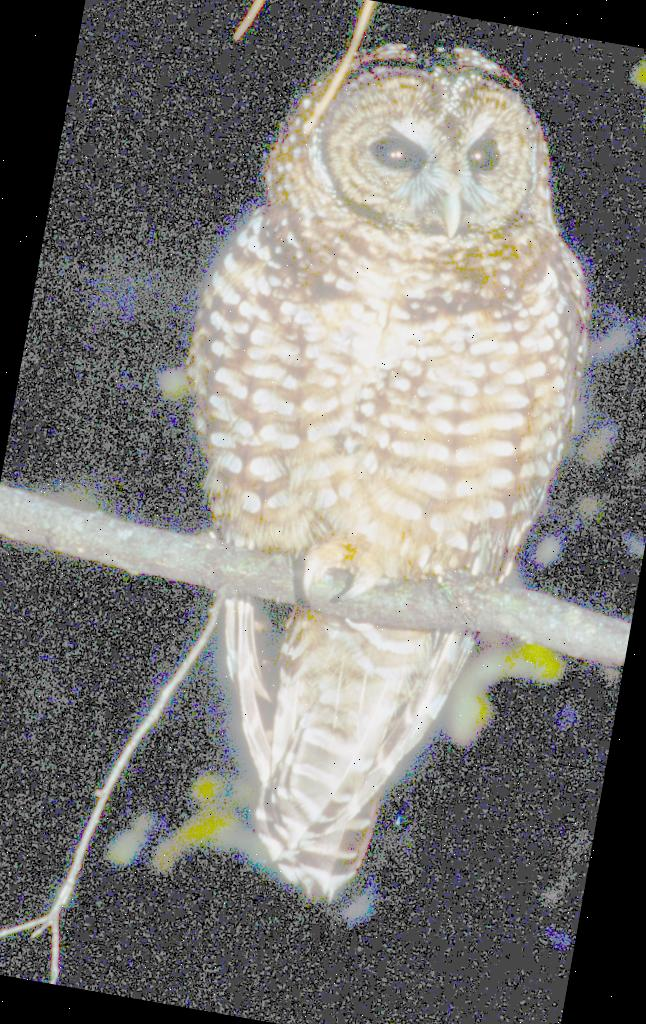Owl: (98, 6, 644, 925)
